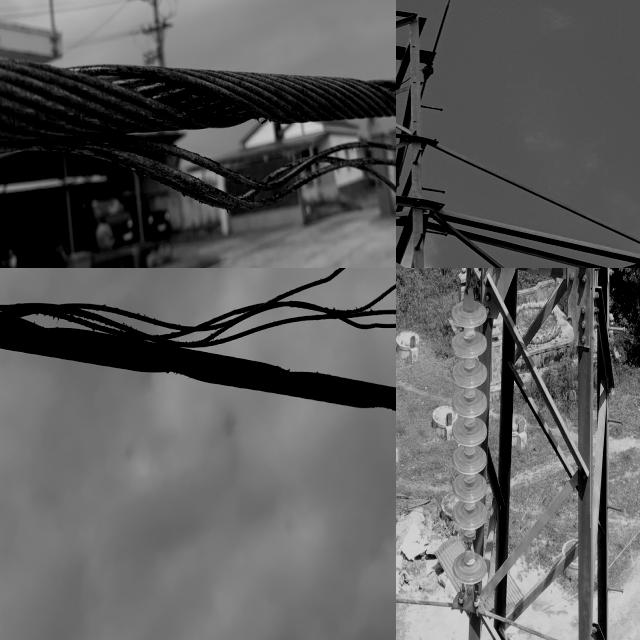杆塔: (443, 268, 631, 640), (396, 0, 640, 268)
正常电缆: (482, 604, 584, 640)
正常绝缘子: (452, 297, 489, 608)
电缆破损: (0, 26, 396, 235), (0, 268, 396, 374)
绝缘子破损: (463, 534, 475, 559)
